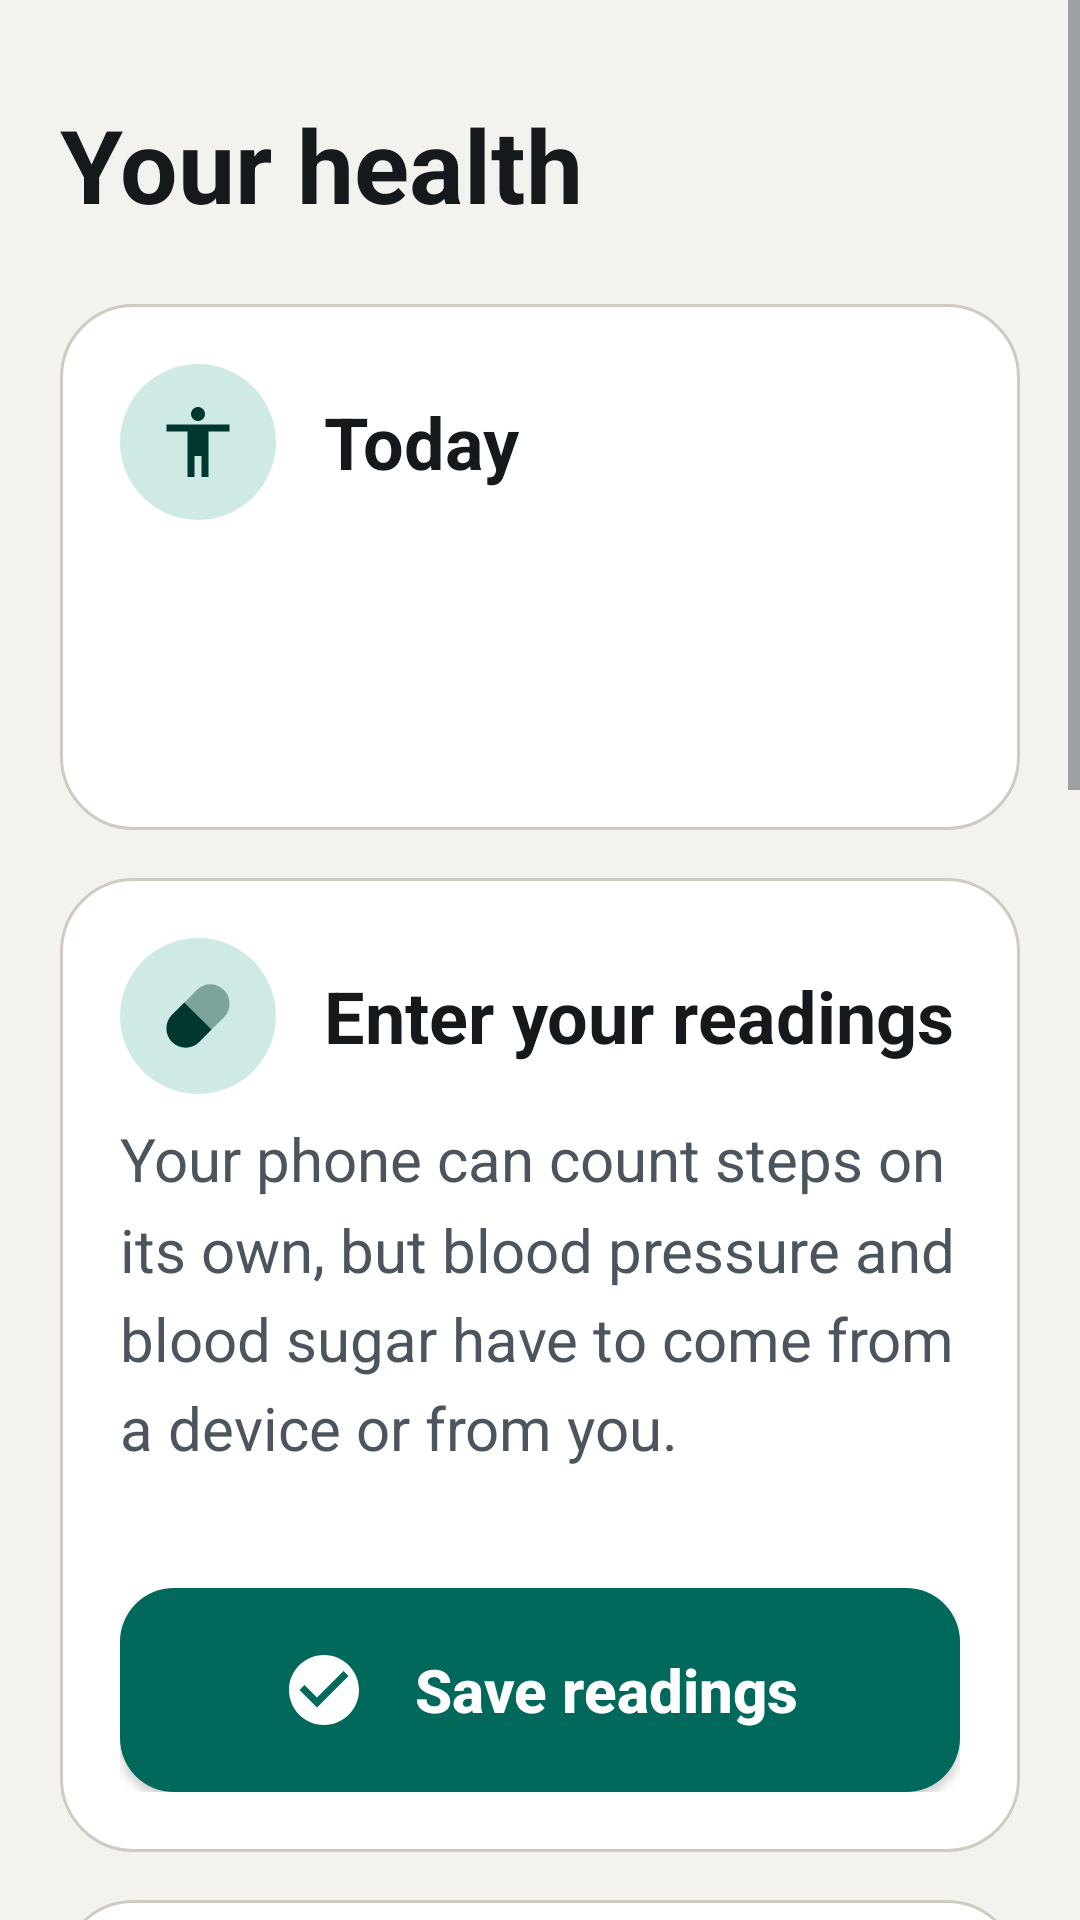

Where icons sit on this 1080x1920 app screen, as (x1, y1, x2, y2):
accessibility: (120, 364, 276, 520)
pill: (120, 938, 276, 1094)
